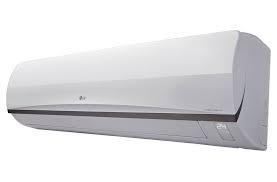ac: (2, 29, 275, 156)
